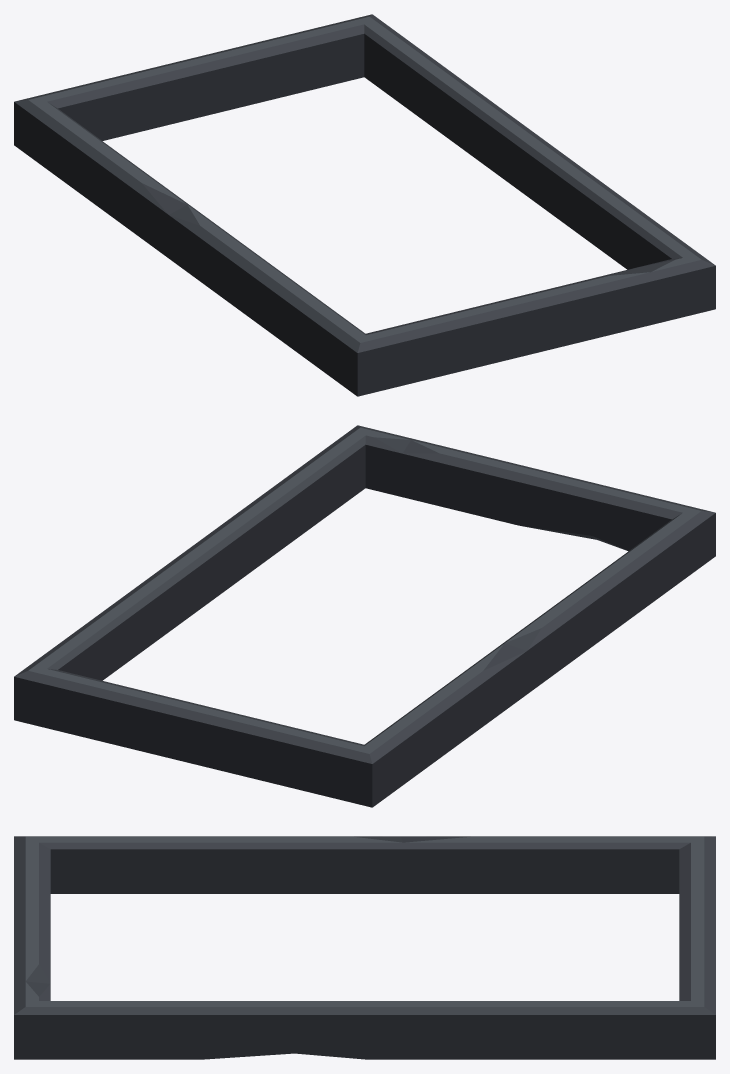
File: SM_Veh_Ship_Grate_04.fbx
3 views of the same model, one above another, from view 1: azimuth 30°, elevation 25°; view 2: azimuth 150°, elevation 25°; view 3: azimuth 270°, elevation 25° (orthographic). The views are drawn at different scales.
Parts seen in each view (by area): view 1: SM_Veh_Ship_Grate_04; view 2: SM_Veh_Ship_Grate_04; view 3: SM_Veh_Ship_Grate_04.
Part boxes in pixels (x1,y1,x2,y2): SM_Veh_Ship_Grate_04: (14, 14, 715, 396); SM_Veh_Ship_Grate_04: (14, 425, 715, 807); SM_Veh_Ship_Grate_04: (14, 836, 715, 1059).
Size of the model in its own units: 276 by 34.88 by 458.
